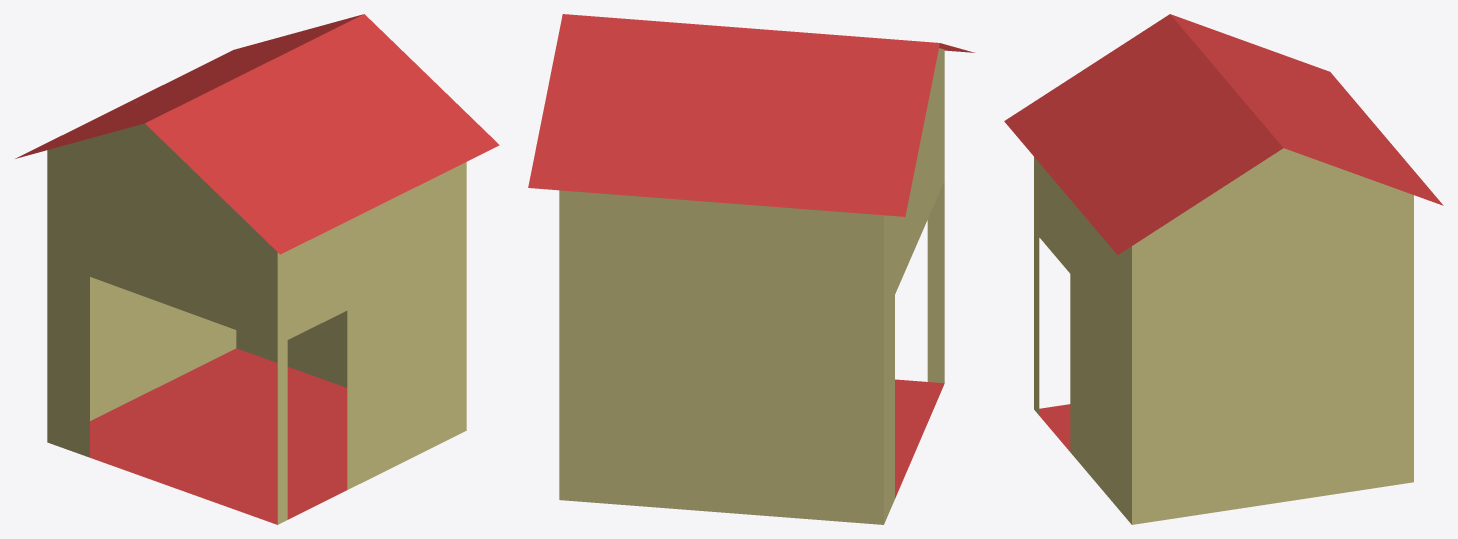
3 views of the same model, side by side, from view 1: azimuth 30°, elevation 25°; view 2: azimuth 150°, elevation 25°; view 3: azimuth 270°, elevation 25° (orthographic). The views are drawn at different scales.
Bounding box in the file's own units: 13.86 × 14.04 × 12.84.
